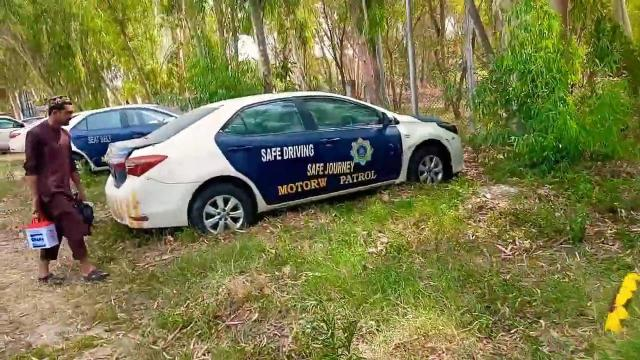police_car: (102, 93, 463, 233)
